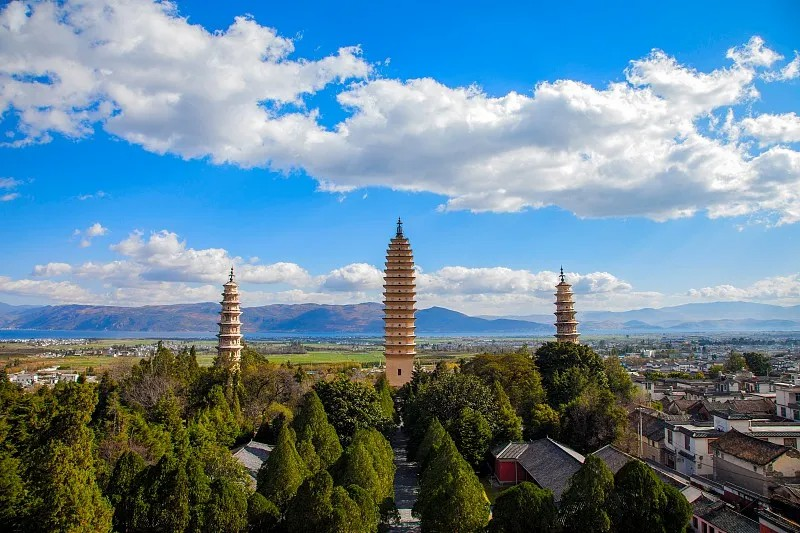ThreePagoda: (382, 218, 416, 388)
